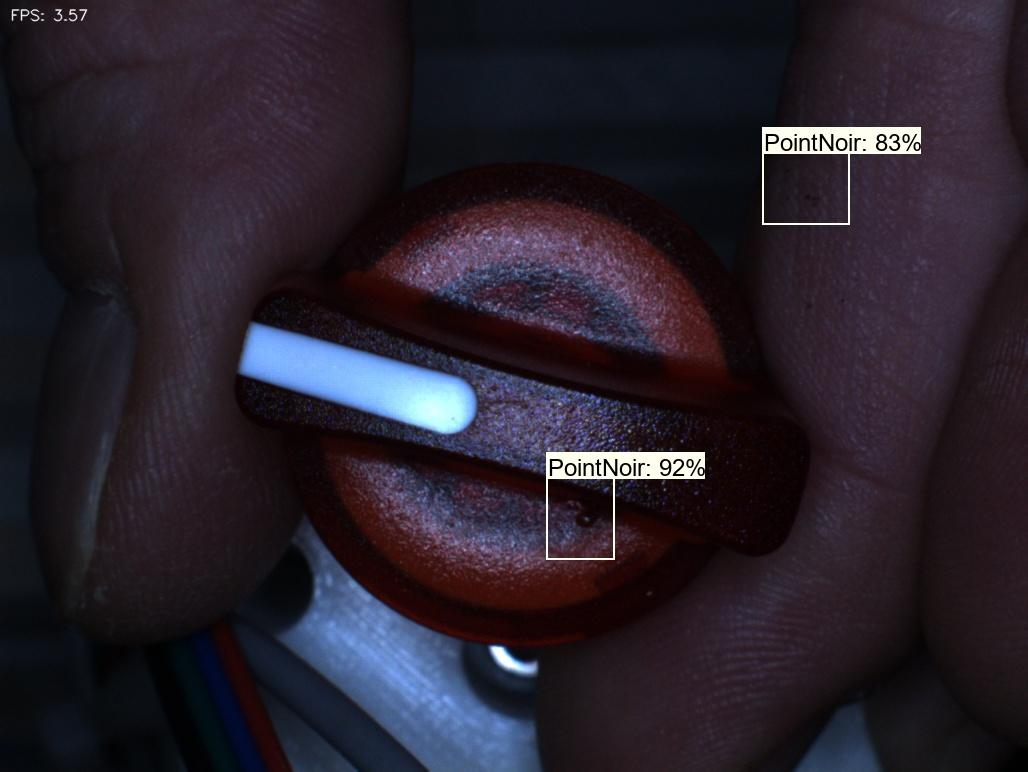Choc: (552, 486, 622, 555)
